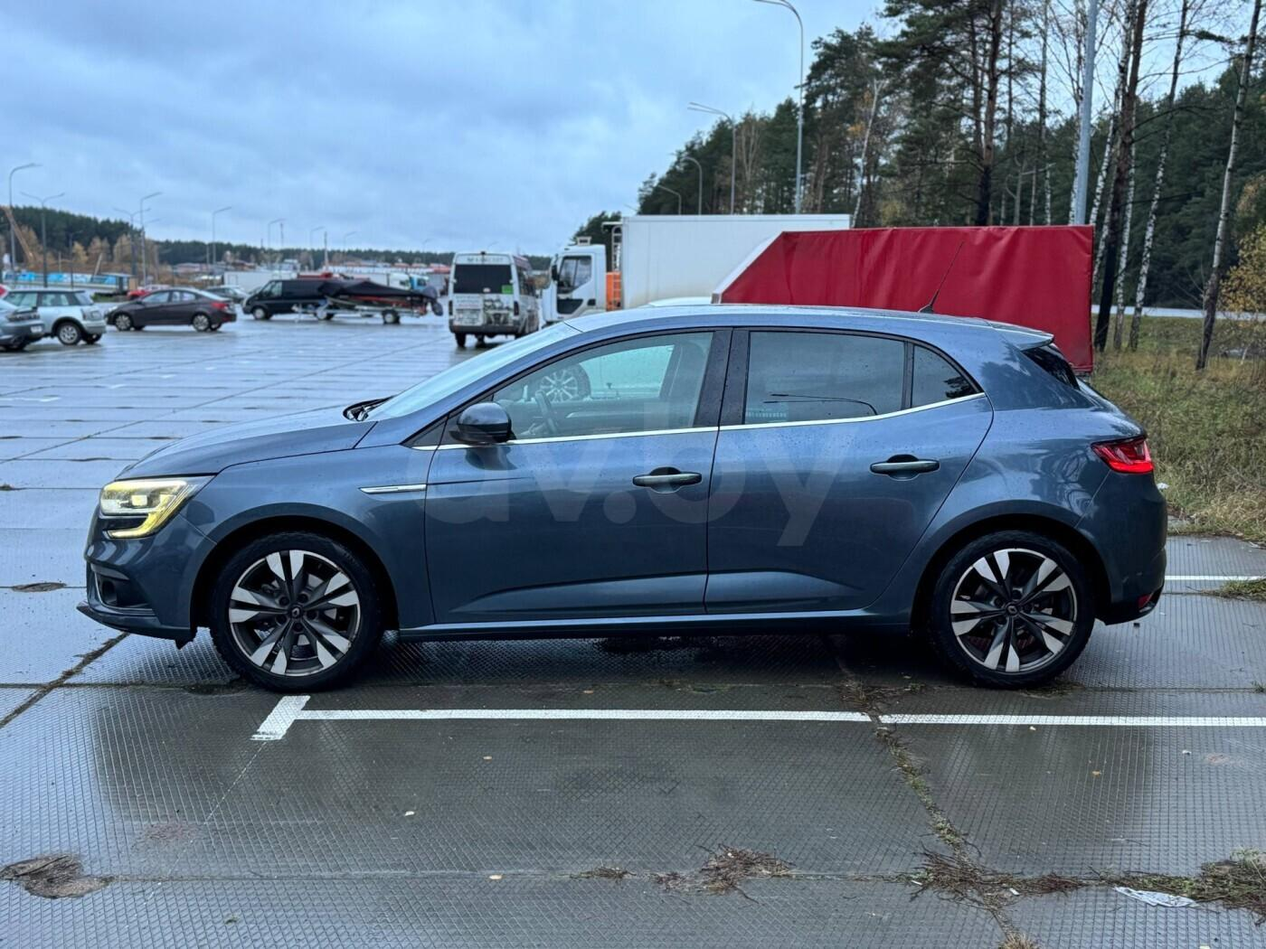Megane_2016-2020: (78, 305, 1176, 713)
